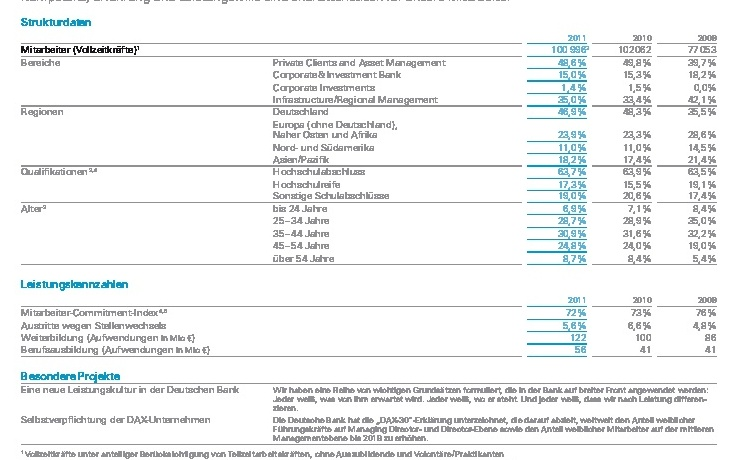table: (0, 0, 739, 460)
